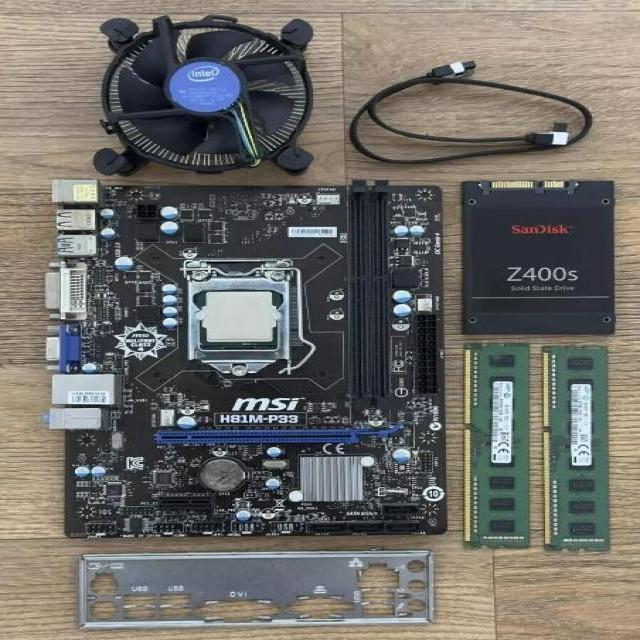CPU: (196, 289, 281, 346)
CPU_Fan: (92, 14, 316, 178)
DISK: (460, 178, 618, 336)
RAM: (540, 345, 611, 552), (462, 342, 532, 550)
